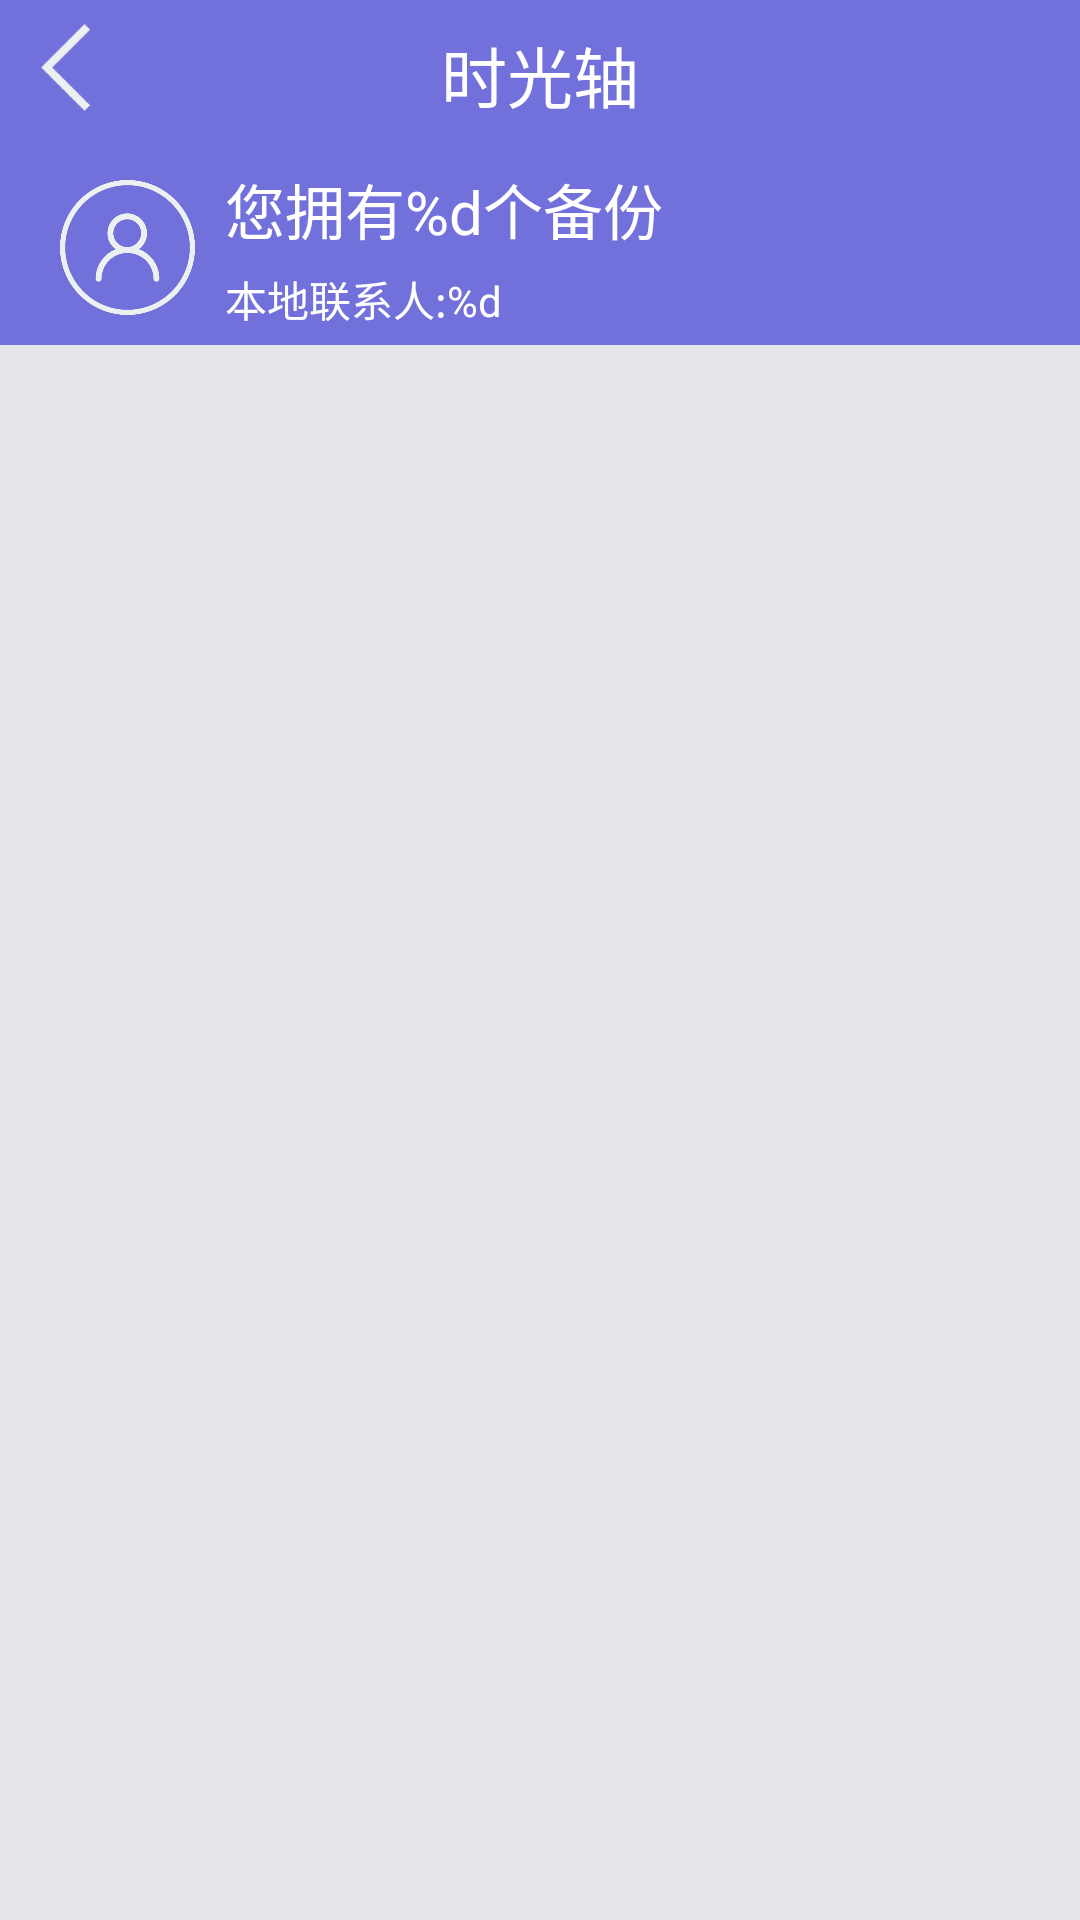

Icon click points for this 1080×1920 phone screenshot, format point (x, y):
back: point (65, 67)
person: point (127, 247)
